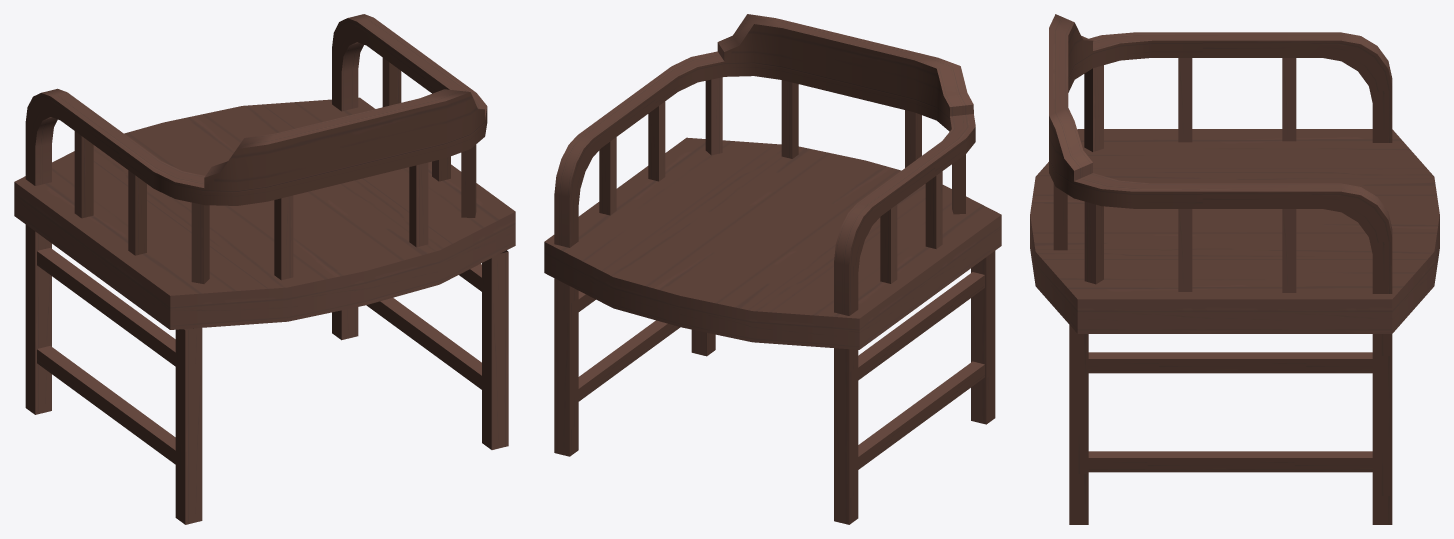
Rendered from Mesh_Room_Chair_SM.fbx.
The picture shows the model from 3 angles, left to right: view 1: azimuth 30°, elevation 25°; view 2: azimuth 150°, elevation 25°; view 3: azimuth 270°, elevation 25°; orthographic projection. The views are drawn at different scales.
Visible parts, largest first — view 1: Mesh_Room_Chair; view 2: Mesh_Room_Chair; view 3: Mesh_Room_Chair.
Part boxes in pixels (x1,y1,x2,y2): Mesh_Room_Chair: [14, 14, 515, 524]; Mesh_Room_Chair: [544, 14, 1001, 524]; Mesh_Room_Chair: [1030, 14, 1439, 524].
Bounding box in the file's own units: 96.12 × 98.37 × 97.75.
Materials: 1 (1 with a texture image).
